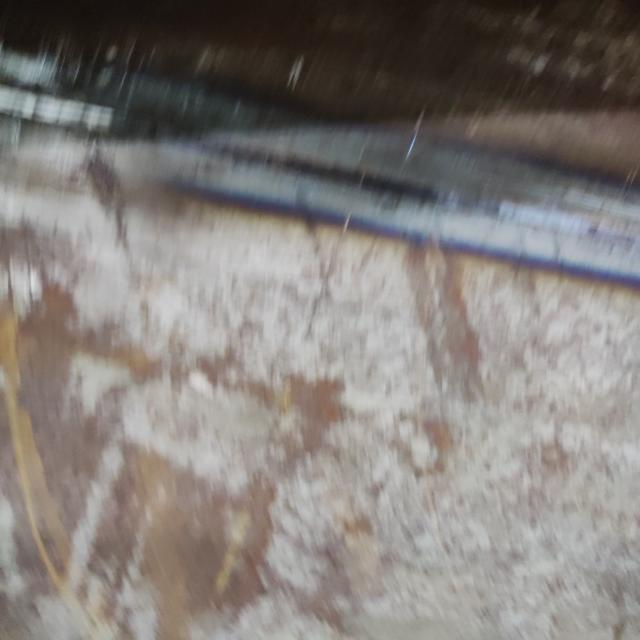seam: (0, 9, 640, 301)
